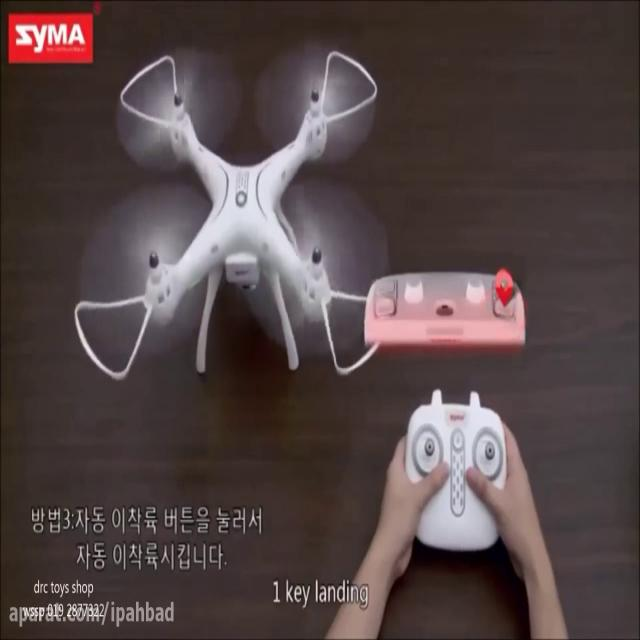drone: (72, 35, 391, 390)
